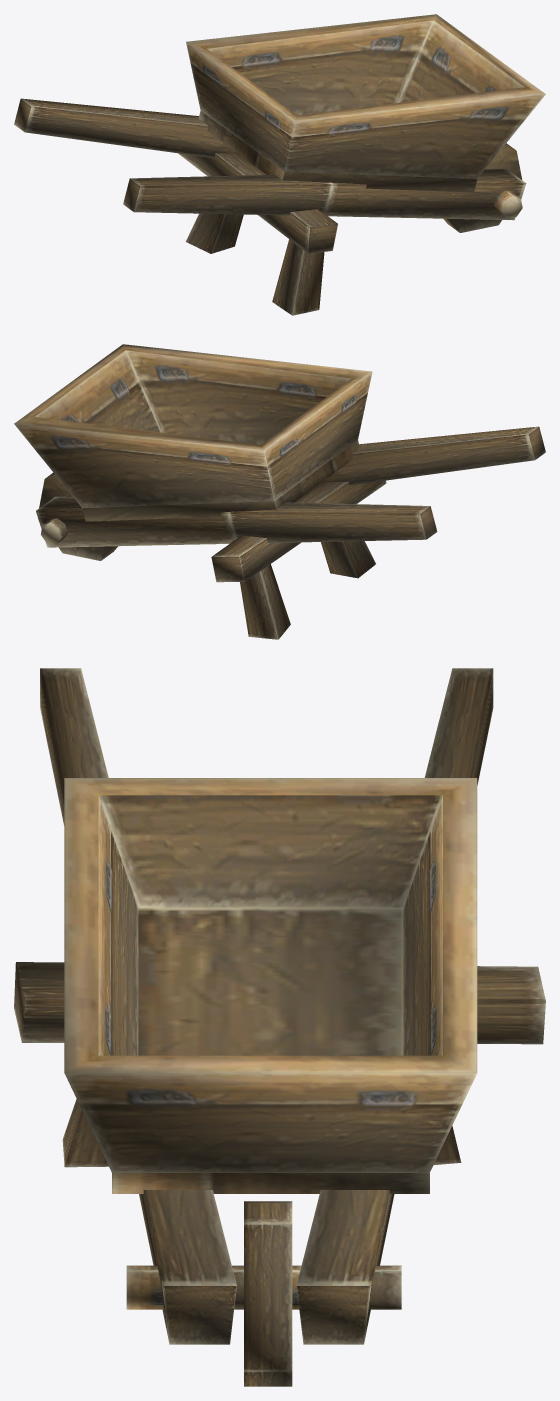
Rendered from caveminewheelbarrow01.obj.
The picture shows the model from 3 angles, top to bottom: view 1: azimuth 30°, elevation 25°; view 2: azimuth 150°, elevation 25°; view 3: azimuth 270°, elevation 25°; orthographic projection. The views are drawn at different scales.
Parts seen in each view (by area): view 1: caveminewheelbarrow01; view 2: caveminewheelbarrow01; view 3: caveminewheelbarrow01.
Boxes of the visible parts, bbox=[...] form: caveminewheelbarrow01: bbox=[14, 14, 545, 315]; caveminewheelbarrow01: bbox=[14, 344, 545, 639]; caveminewheelbarrow01: bbox=[14, 668, 545, 1386].
Size of the model in its own units: 2.89 by 1.24 by 1.58.
1 material, 1 textured.
